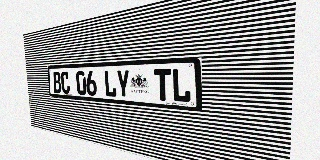0: (76, 71, 87, 95)
6: (85, 71, 97, 96)
B: (53, 72, 62, 93)
C: (60, 71, 70, 94)
L: (172, 68, 191, 103), (104, 70, 117, 97)
T: (154, 69, 172, 101)
Y: (116, 70, 130, 98)
